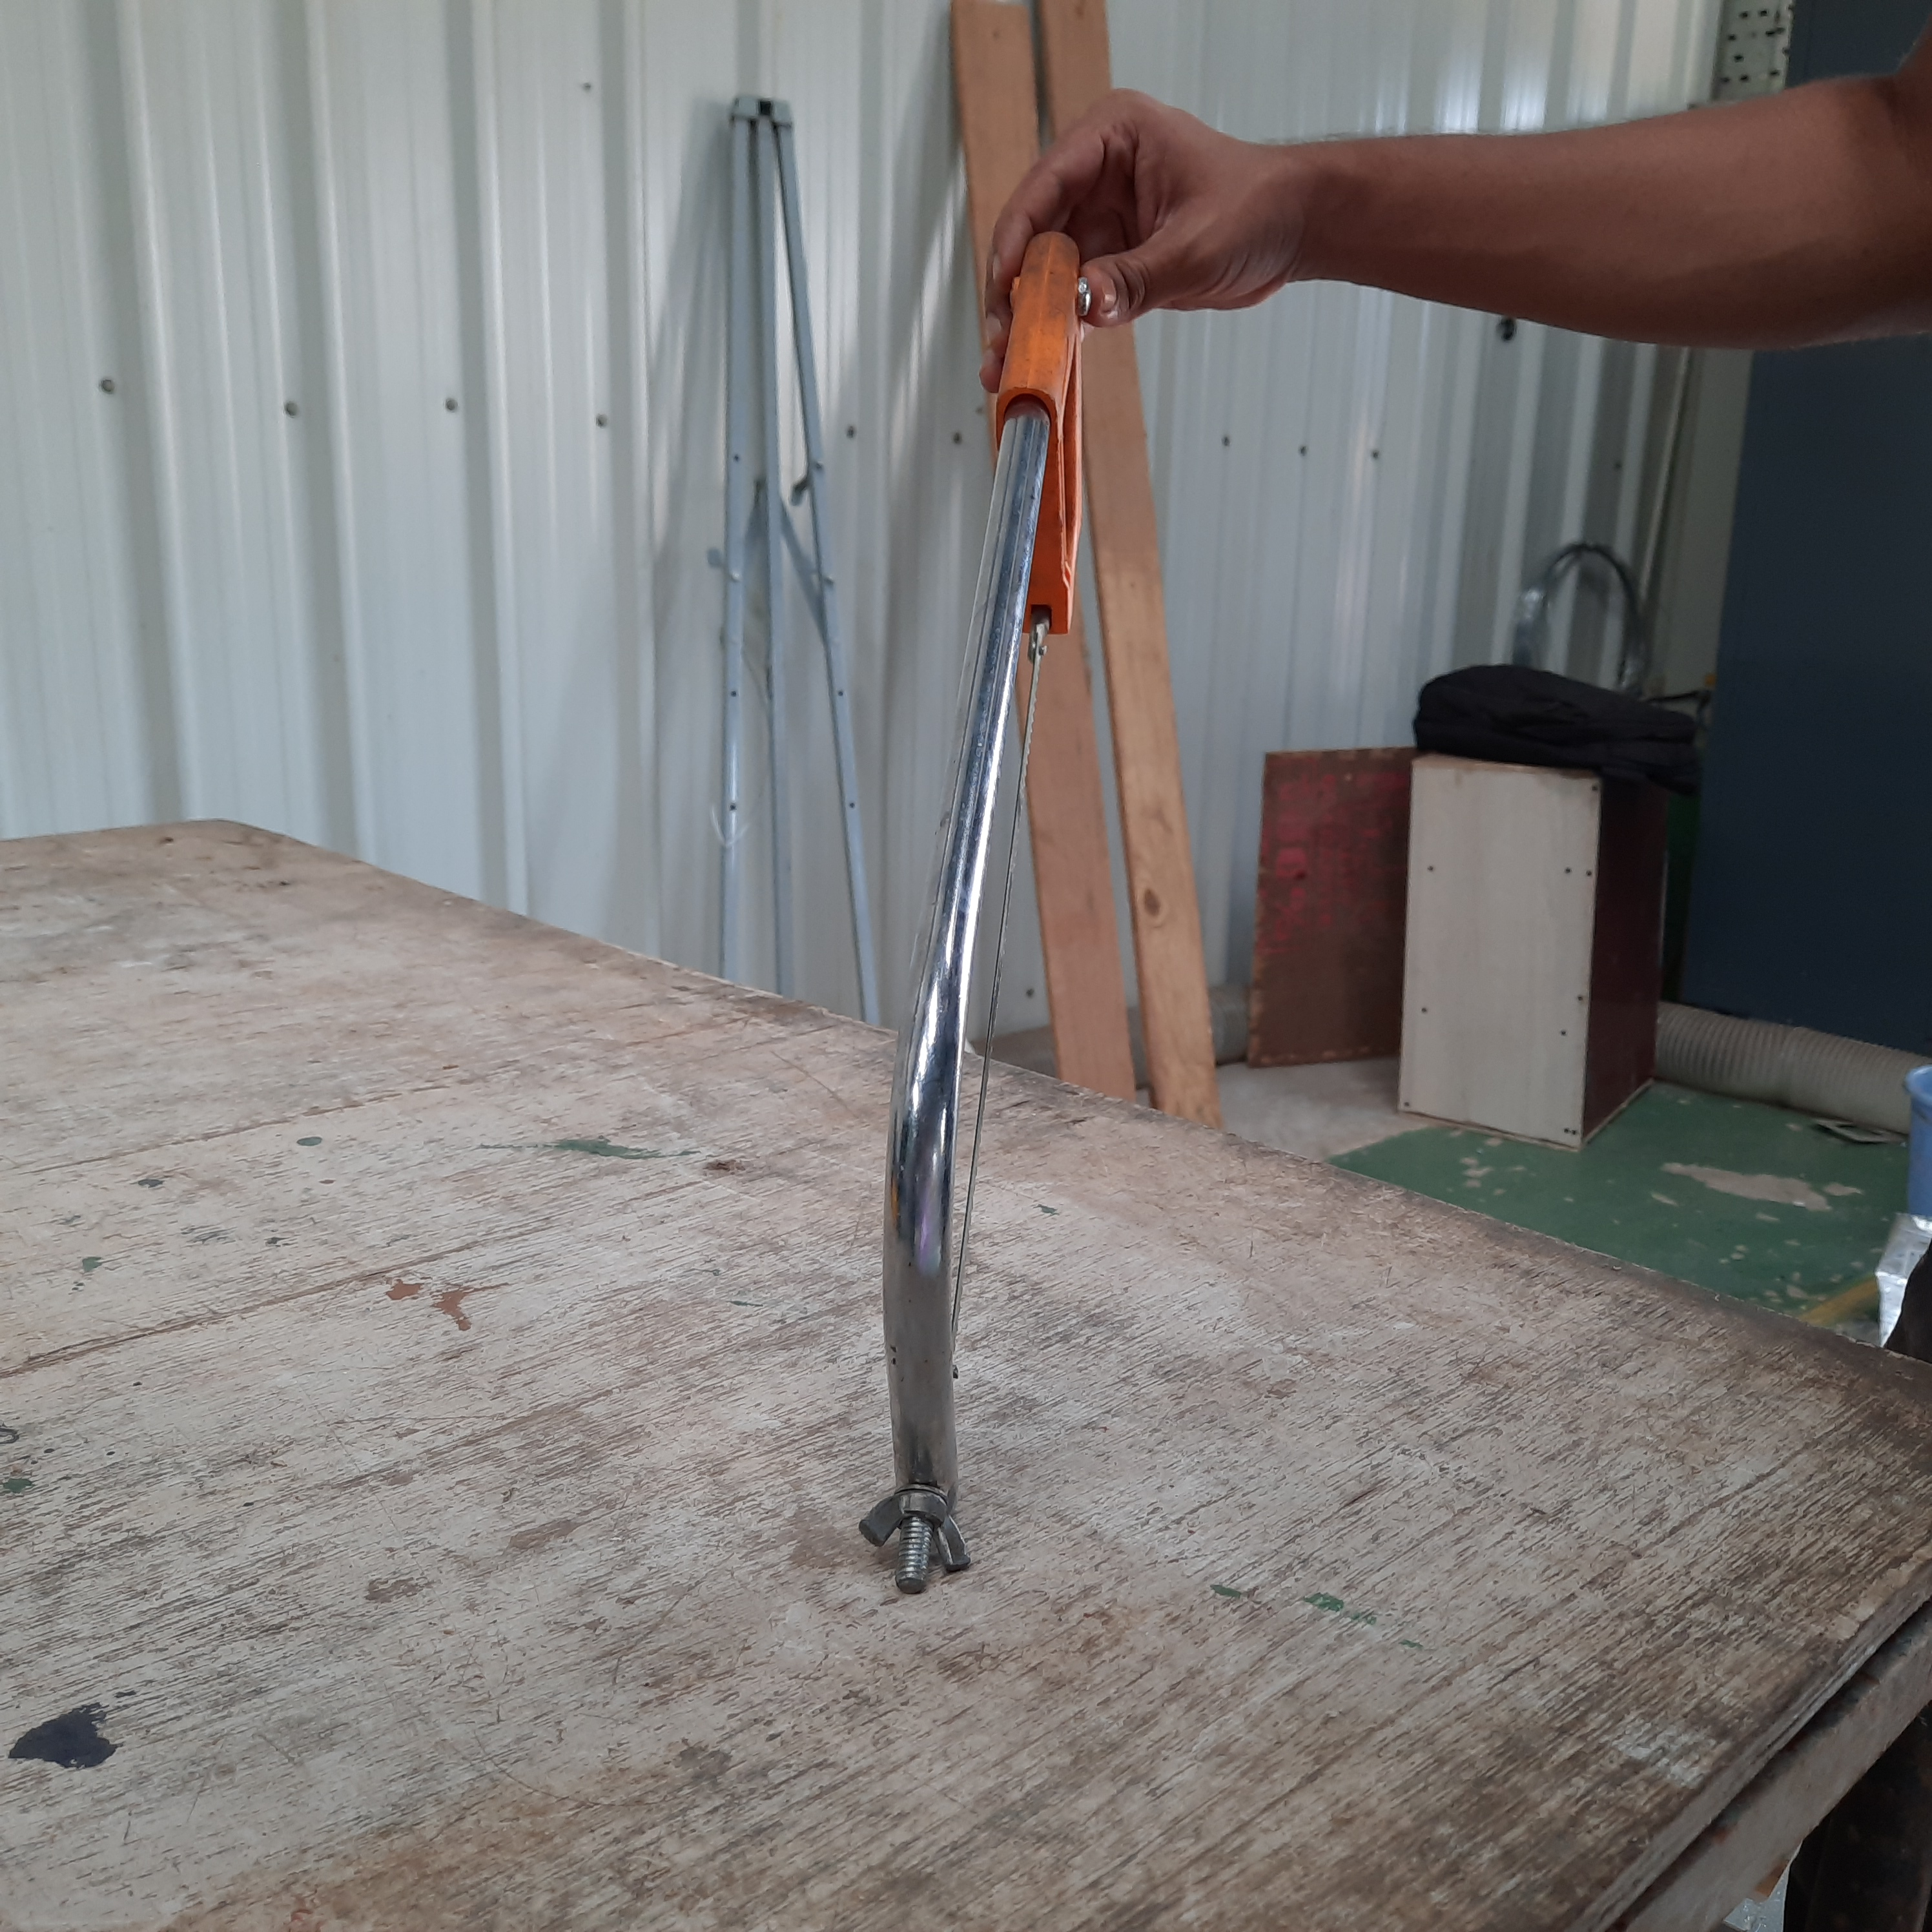Hexaframe: (828, 209, 1189, 1635)
